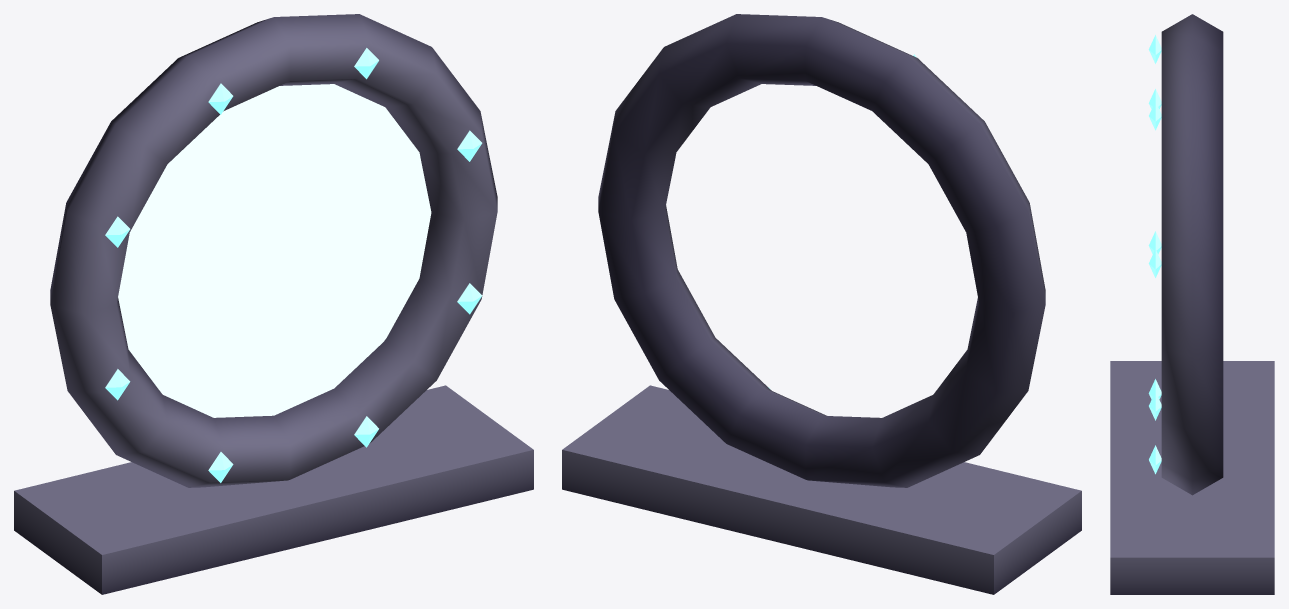
File: portal_ring.glb
The picture shows the model from 3 angles, left to right: view 1: azimuth 30°, elevation 25°; view 2: azimuth 150°, elevation 25°; view 3: azimuth 270°, elevation 25°; orthographic projection. The views are drawn at different scales.
Parts seen in each view (by area): view 1: portal_ring; view 2: portal_ring; view 3: portal_ring.
Boxes of the visible parts, x1=… form: portal_ring: x1=14, y1=14, x2=533, y2=594; portal_ring: x1=562, y1=14, x2=1081, y2=594; portal_ring: x1=1110, y1=14, x2=1274, y2=594.
Bounding box in the file's own units: 3.52 × 3.71 × 1.2.
